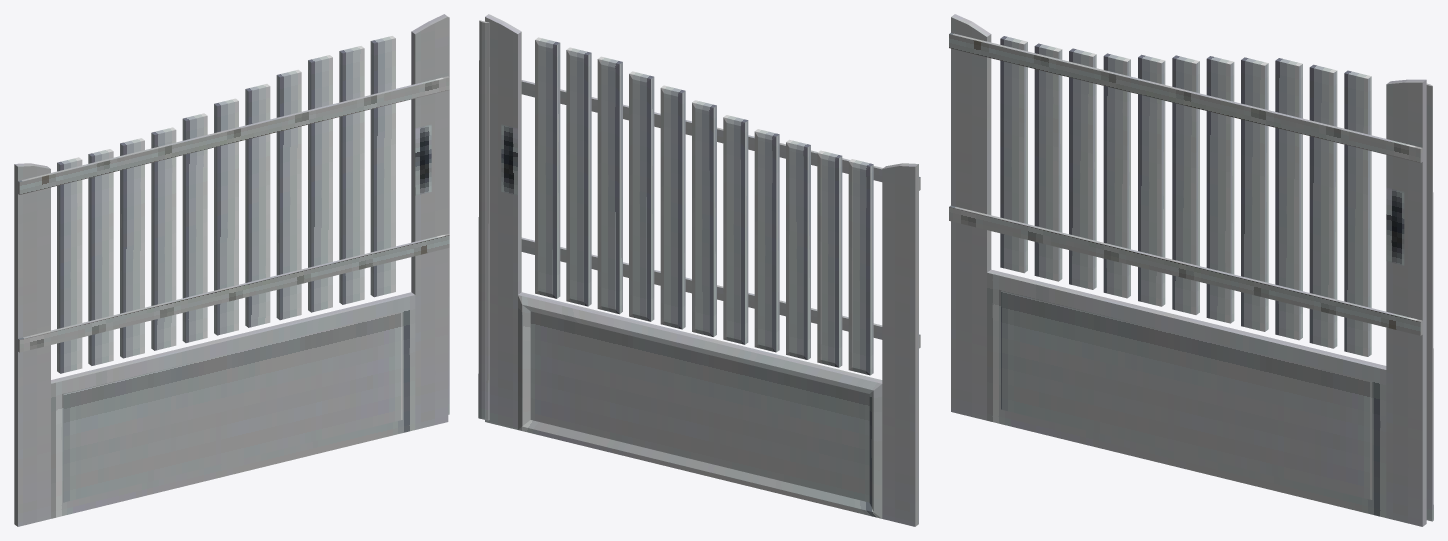
The model's file is plastic_gate_right.glb.
3 renders of one model, left to right at view 1: azimuth 30°, elevation 25°; view 2: azimuth 150°, elevation 25°; view 3: azimuth 330°, elevation 25°, orthographic. The views are drawn at different scales.
Visible parts, largest first — view 1: plastic_gate_right; view 2: plastic_gate_right; view 3: plastic_gate_right.
Part boxes in pixels (x1,y1,x2,y2): plastic_gate_right: [14, 14, 449, 526]; plastic_gate_right: [478, 14, 920, 526]; plastic_gate_right: [949, 14, 1433, 526].
Size of the model in its own units: 2.02 by 1.8 by 0.0605.
Materials: 1 (1 with a texture image).
